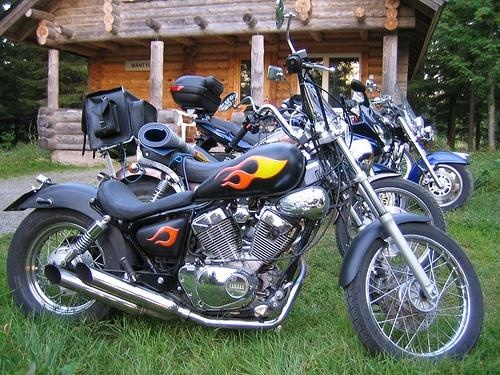motorbike: (6, 2, 485, 370), (83, 85, 444, 281), (172, 76, 408, 227), (247, 98, 474, 213)
